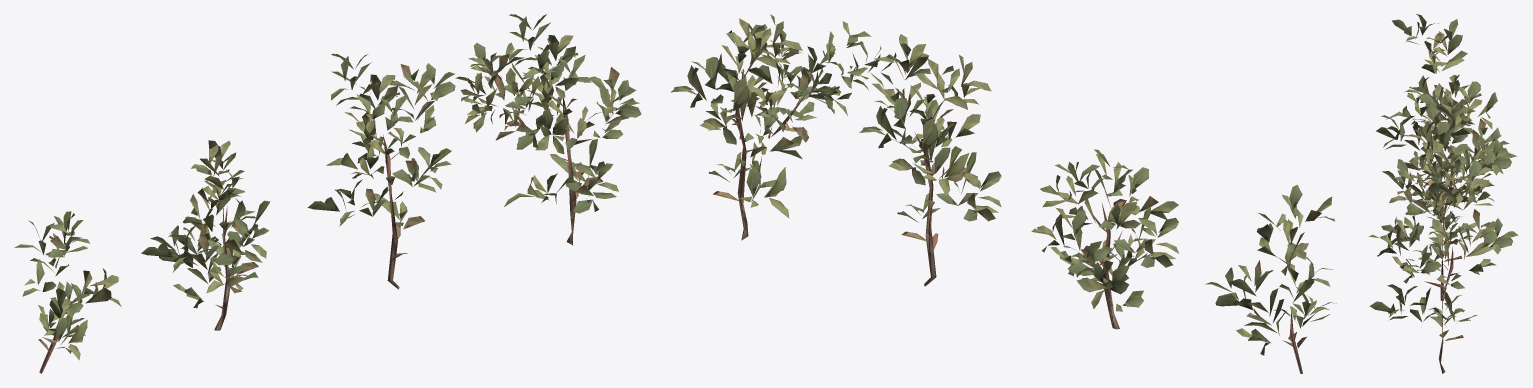
The model's file is shrub_04.glb.
The picture shows the model from 3 angles, left to right: view 1: azimuth 30°, elevation 25°; view 2: azimuth 150°, elevation 25°; view 3: azimuth 270°, elevation 25°; orthographic projection. The views are drawn at different scales.
Parts seen in each view (by area): view 1: shrub_04; view 2: shrub_04; view 3: shrub_04.
Boxes of the visible parts, left/top/right/bottom form: shrub_04: left=14, top=14, right=641, bottom=373; shrub_04: left=671, top=14, right=1336, bottom=373; shrub_04: left=1368, top=14, right=1518, bottom=373.
Size of the model in its own units: 0.5837 by 0.2185 by 0.1461.
1 material, 1 textured.
